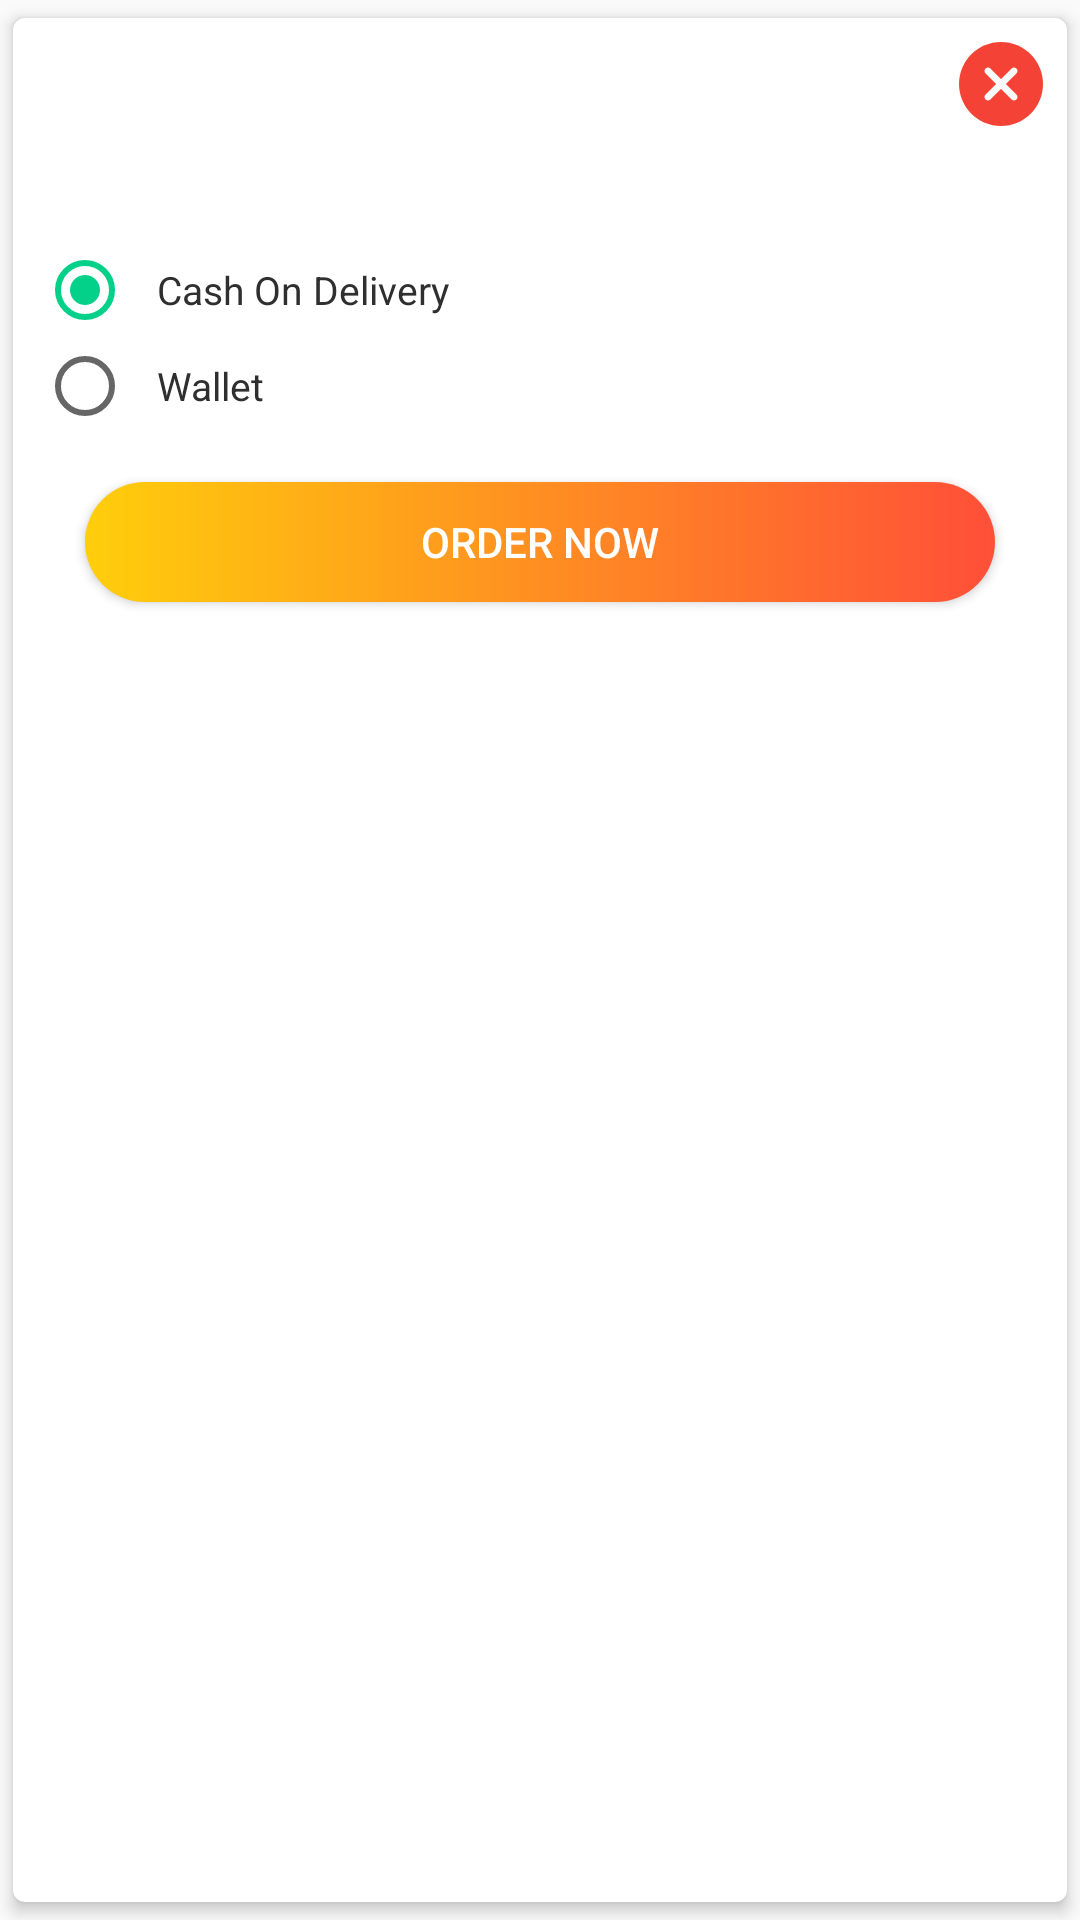

Icon bounding boxes for this 1080px x 1920px phone screenshot, format box(x1, y1, x2, y2):
cross: box(959, 42, 1043, 126)
